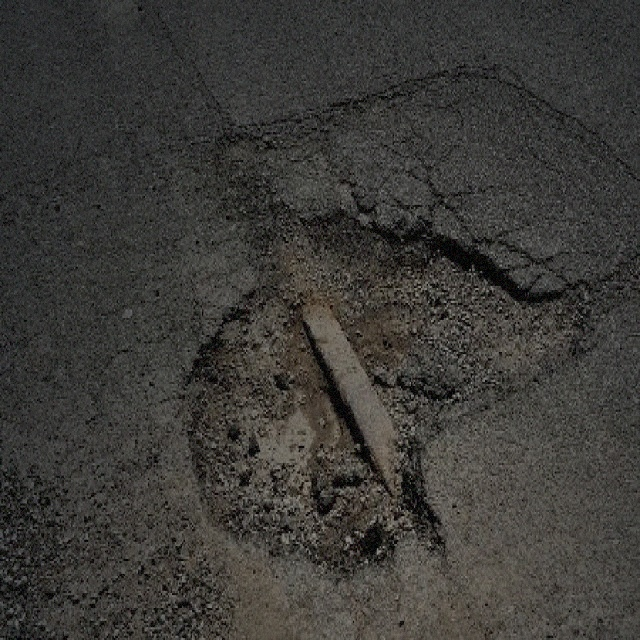pothole: (176, 200, 593, 584)
